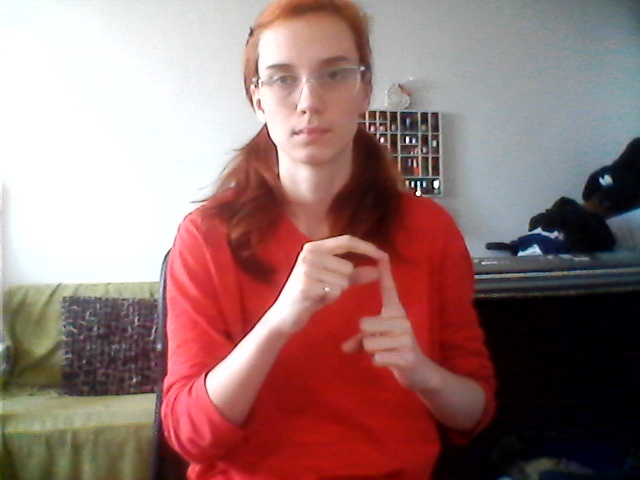p: (264, 228, 426, 413)
